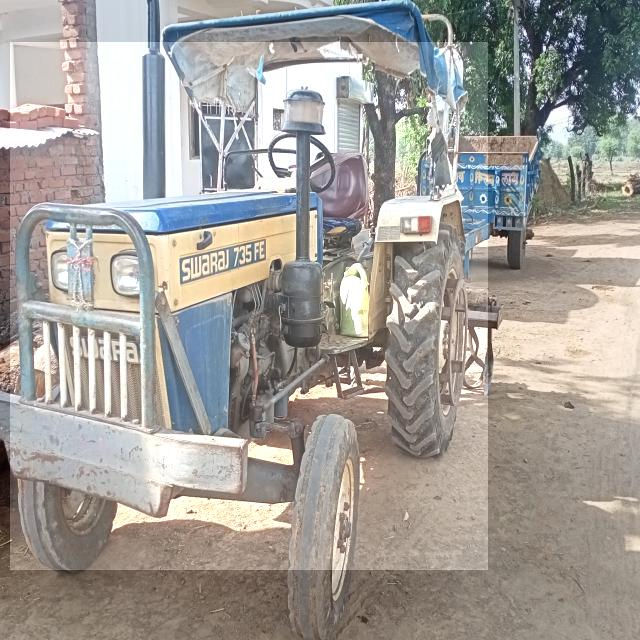Tractot: (11, 42, 488, 570)
